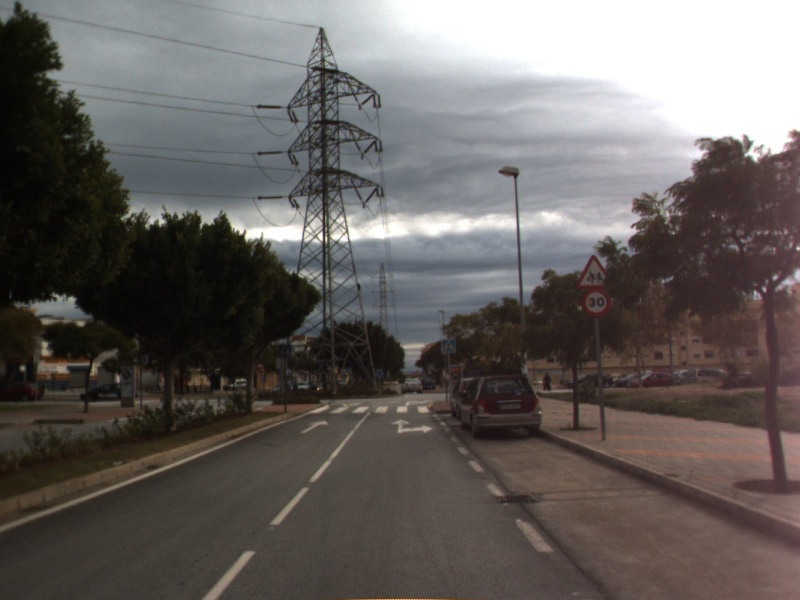STRAIGHT: (299, 418, 330, 435)
STRAIGHT_RIGHT: (389, 417, 435, 435)
